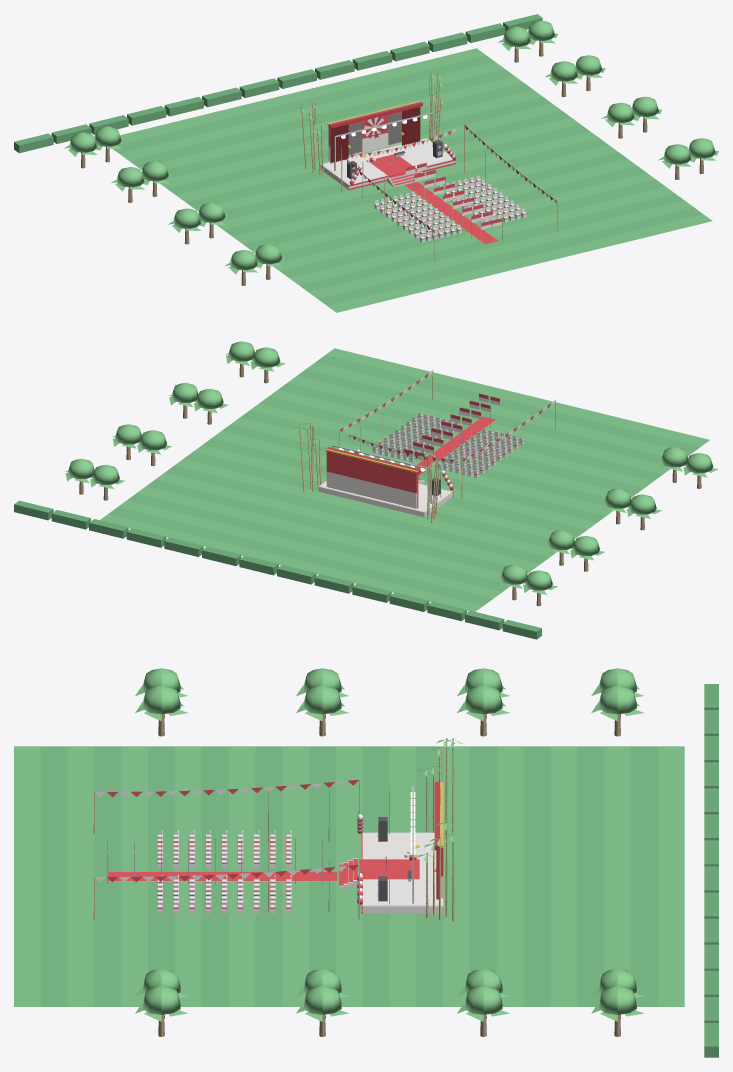
File: compound.glb
3 views of the same model, one above another, from view 1: azimuth 30°, elevation 25°; view 2: azimuth 150°, elevation 25°; view 3: azimuth 270°, elevation 25° (orthographic). The views are drawn at different scales.
Visible parts, largest first — view 1: lawn, trees, stage, chairs, ornaments, curtains, bamboo, rig; view 2: lawn, trees, stage, chairs, ornaments, bamboo, rig; view 3: lawn, trees, stage, chairs, ornaments, bamboo, rig.
Part boxes in pixels (x1,y1,x2,y2): lawn: [112, 48, 712, 312]; trees: [14, 14, 718, 285]; stage: [320, 101, 498, 244]; chairs: [374, 175, 526, 242]; ornaments: [341, 124, 558, 261]; curtains: [328, 102, 422, 163]; bamboo: [295, 72, 485, 213]; rig: [334, 112, 442, 178]; lawn: [100, 348, 709, 611]; trees: [14, 341, 718, 639]; stage: [318, 416, 496, 517]; chairs: [372, 412, 524, 478]; ornaments: [339, 370, 555, 497]; bamboo: [294, 411, 483, 522]; rig: [332, 445, 440, 503]; lawn: [14, 746, 684, 1006]; trees: [135, 668, 718, 1057]; stage: [108, 782, 443, 913]; chairs: [157, 830, 291, 912]; ornaments: [93, 779, 362, 919]; bamboo: [268, 738, 462, 921]; rig: [377, 786, 419, 903].
Size of the model in its own units: 128 by 16.02 by 105.
